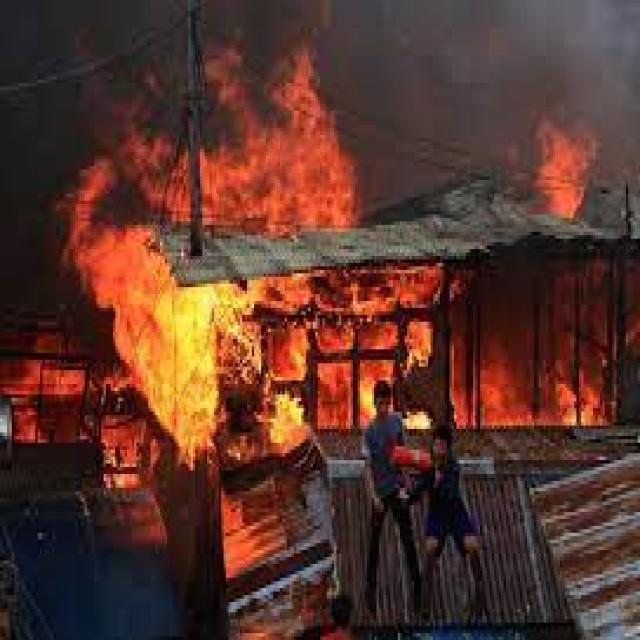Fire: (252, 274, 426, 476), (87, 248, 243, 448), (542, 147, 603, 242)
Smoke: (0, 7, 640, 201)
